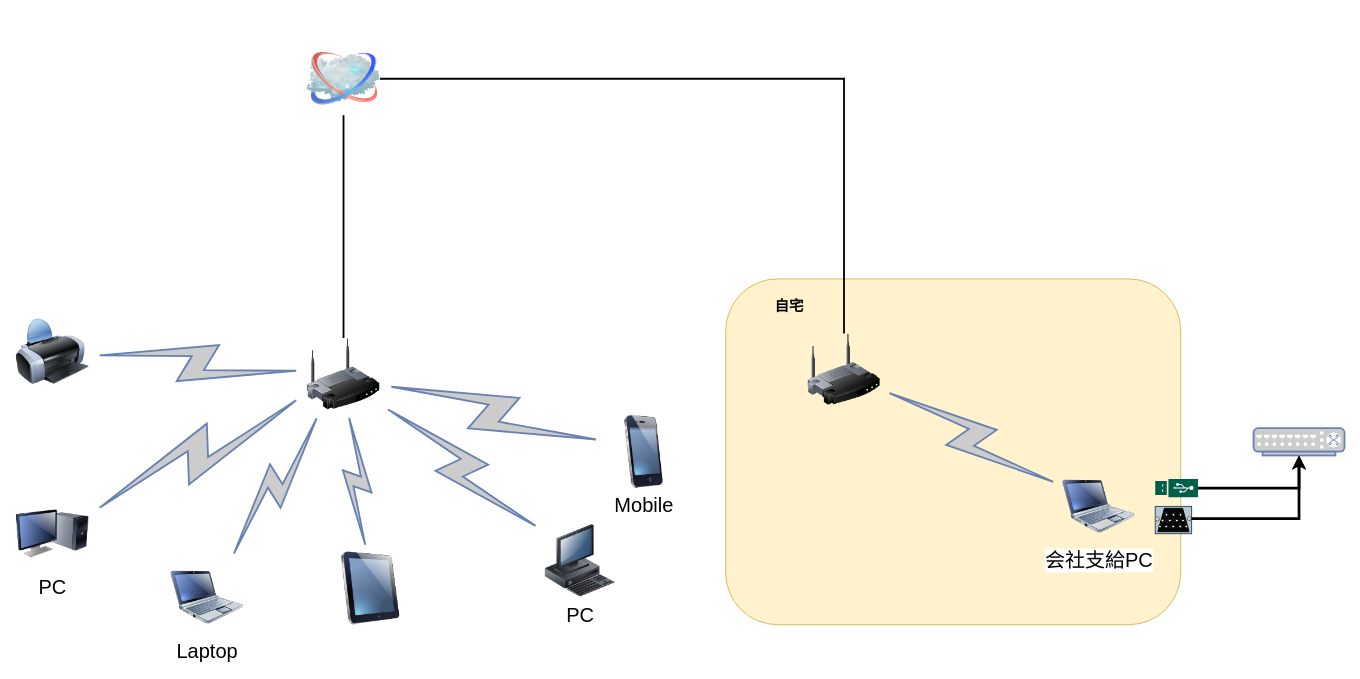
The diagram is 1360 pixels wide and 679 high, and some of its shapes have lost their labels. The box of each missing label's shape, as (x1, y1, x2, y2) in pixels:
Internet: (307, 42, 379, 115)
Printer: (15, 315, 88, 388)
Tablet: (334, 551, 407, 624)
